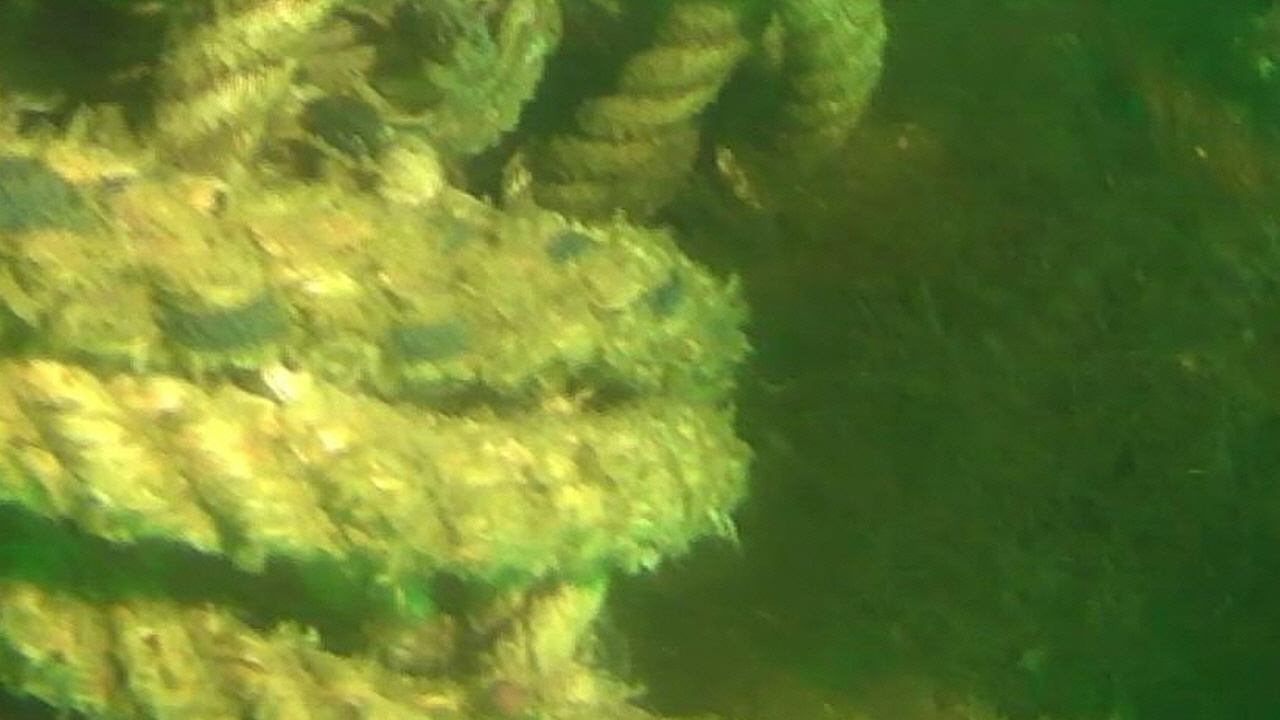bundle of ropes: (0, 0, 887, 720)
